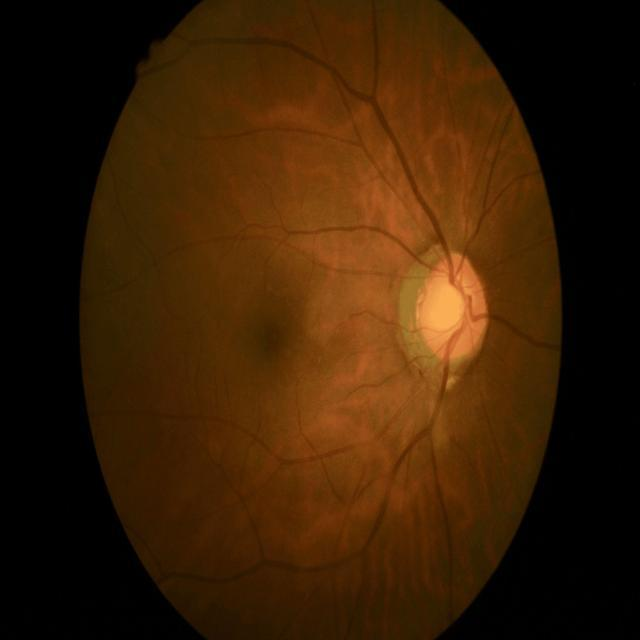cup: (428, 276, 466, 334)
disk: (417, 252, 489, 360)
